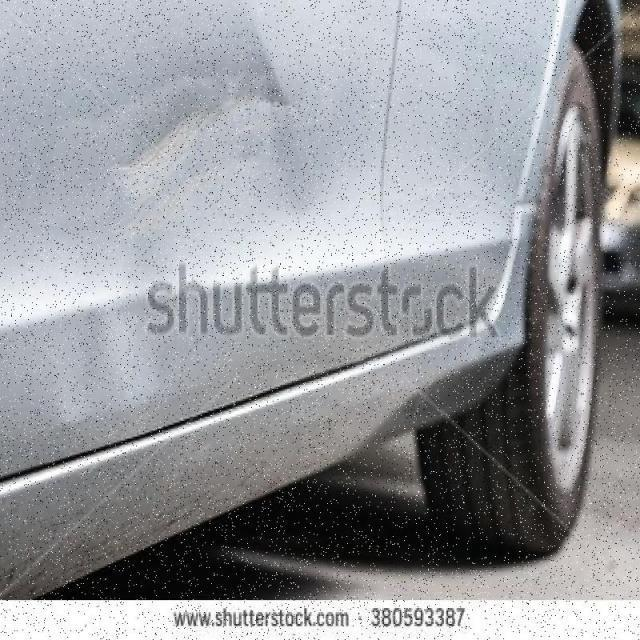dent: (114, 94, 280, 221)
